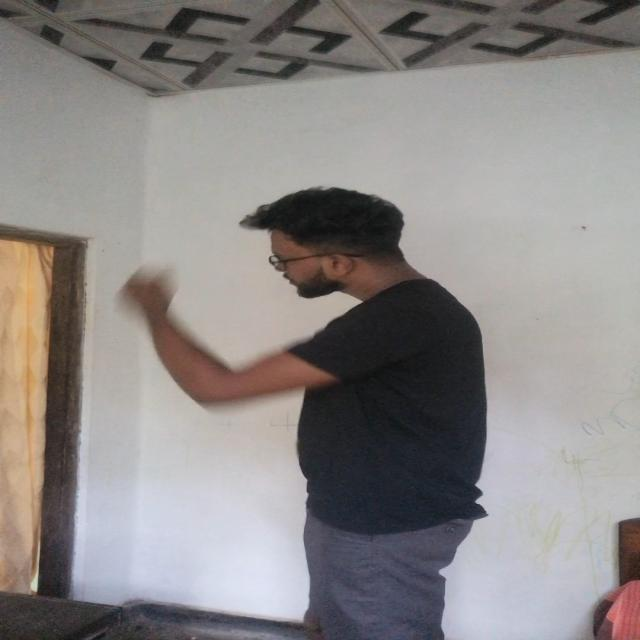Person: (124, 190, 510, 632)
